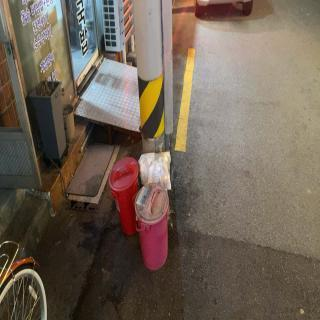Garbage: (137, 149, 175, 191)
